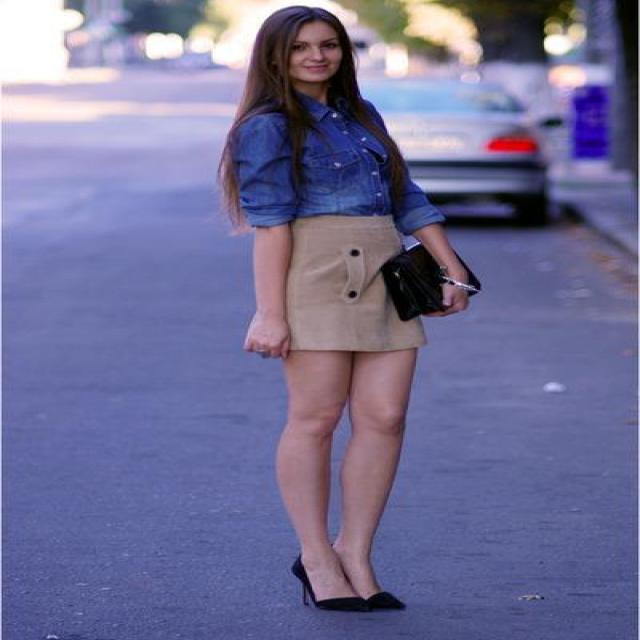bag: (379, 243, 478, 321)
shirt: (222, 96, 477, 241)
shoe: (291, 555, 402, 611)
skirt: (278, 214, 421, 350)
